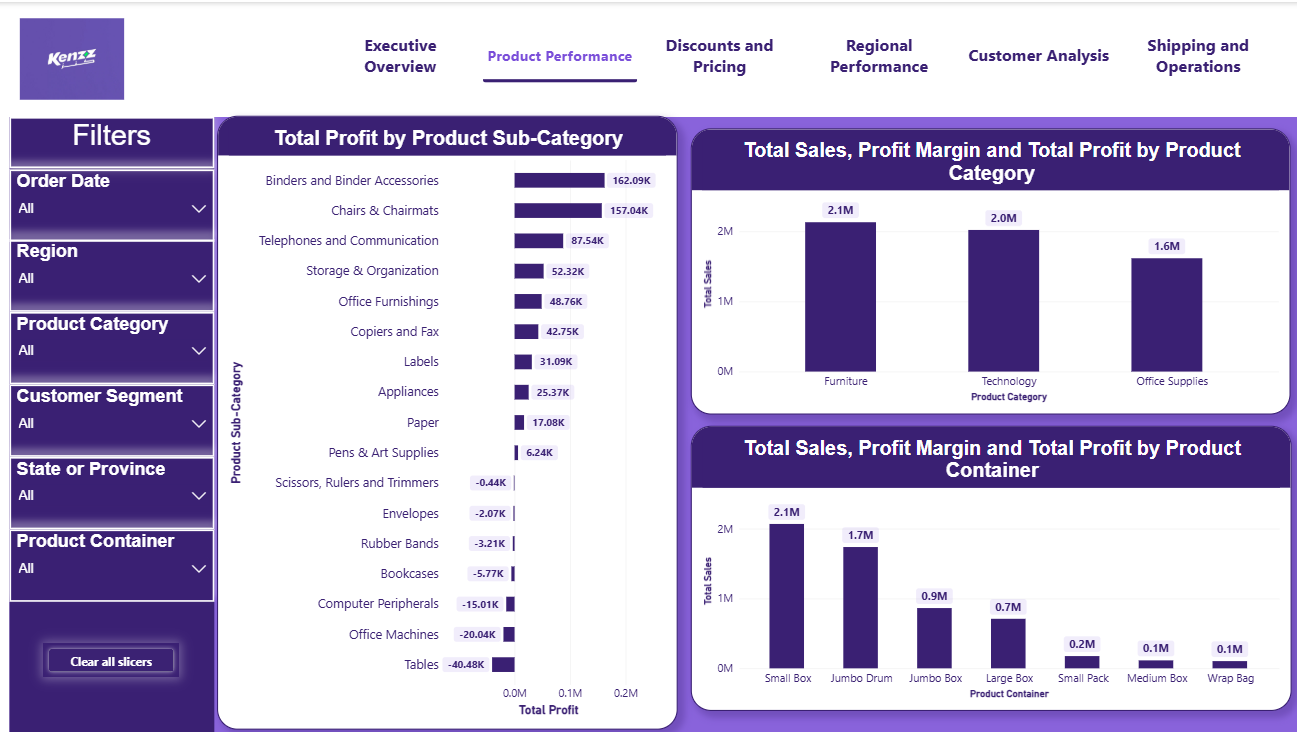

The dashboard page shown, as its layout file describes it:
{"tool":"powerbi","page":{"name":"Product Performance","canvas":[1920,1080],"ordinal":2},"visuals":[{"type":"shape","box":[0,140.9,18.8,939.1],"z":0},{"type":"shape","title":"Super Store Analysis Dashboard","box":[0,0,1919.6,169.3],"z":1000},{"type":"pageNavigator","box":[480.4,38.7,1404.3,81],"z":3000},{"type":"shape","box":[18.4,169,301.8,911],"z":4000},{"type":"textbox","box":[18.4,169.3,301.8,75.5],"z":5000},{"type":"slicer","fields":{"Values":["Final Sales Data.Order Date"]},"box":[18.4,246.6,301.8,106.7],"z":6000},{"type":"slicer","fields":{"Values":["Customers Data.Region"]},"box":[18.4,349.7,301.8,106.7],"z":7000},{"type":"slicer","fields":{"Values":["Products Data.Product Category"]},"box":[18.4,456.4,301.8,106.7],"z":8000},{"type":"slicer","fields":{"Values":["Customers Data.Customer Segment"]},"box":[18.4,563.2,301.8,106.7],"z":9000},{"type":"slicer","fields":{"Values":["Customers Data.State or Province"]},"box":[18.4,669.9,301.8,106.7],"z":10000},{"type":"slicer","fields":{"Values":["Products Data.Product Container"]},"box":[19.1,777.6,301.8,106.7],"z":11000},{"type":"clusteredColumnChart","fields":{"Category":["Products Data.Product Category"],"Y":["Measures Table.Total Sales"]},"box":[1021.5,185.9,883.4,421.5],"z":12000},{"type":"clusteredBarChart","fields":{"Category":["Products Data.Product Sub-Category"],"Y":["Measures Table.Total Profit"]},"box":[324.8,168.1,678.2,903.6],"z":13000},{"type":"clusteredColumnChart","fields":{"Category":["Products Data.Product Container"],"Y":["Measures Table.Total Sales"]},"box":[1021.5,623.9,884.5,420.3],"z":14000},{"type":"actionButton","box":[68.8,943.8,200,50],"z":15000},{"type":"image","box":[18.4,23.9,184.1,119.6],"z":15001}]}

Visuals, with their boxes in screenshot pixels (x1, y1, x2, y2), scaled from the page's 1920x1080 canvas onto the 1297x732 screenshot:
shape: 0:95:13:731
"Super Store Analysis Dashboard" shape: 0:0:1296:115
pageNavigator: 325:26:1273:81
shape: 12:115:216:731
textbox: 12:115:216:166
slicer - Final Sales Data.Order Date: 12:167:216:239
slicer - Customers Data.Region: 12:237:216:309
slicer - Products Data.Product Category: 12:309:216:382
slicer - Customers Data.Customer Segment: 12:382:216:454
slicer - Customers Data.State or Province: 12:454:216:526
slicer - Products Data.Product Container: 13:527:217:599
clusteredColumnChart - Products Data.Product Category x Measures Table.Total Sales: 690:126:1287:412
clusteredBarChart - Products Data.Product Sub-Category x Measures Table.Total Profit: 219:114:678:726
clusteredColumnChart - Products Data.Product Container x Measures Table.Total Sales: 690:423:1288:708
actionButton: 46:640:182:674
image: 12:16:137:97
